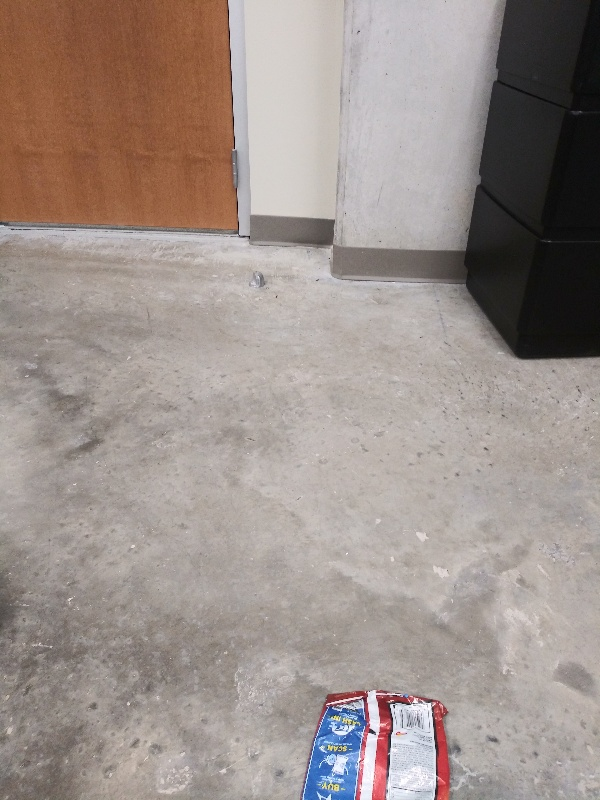bag: (286, 688, 455, 800)
